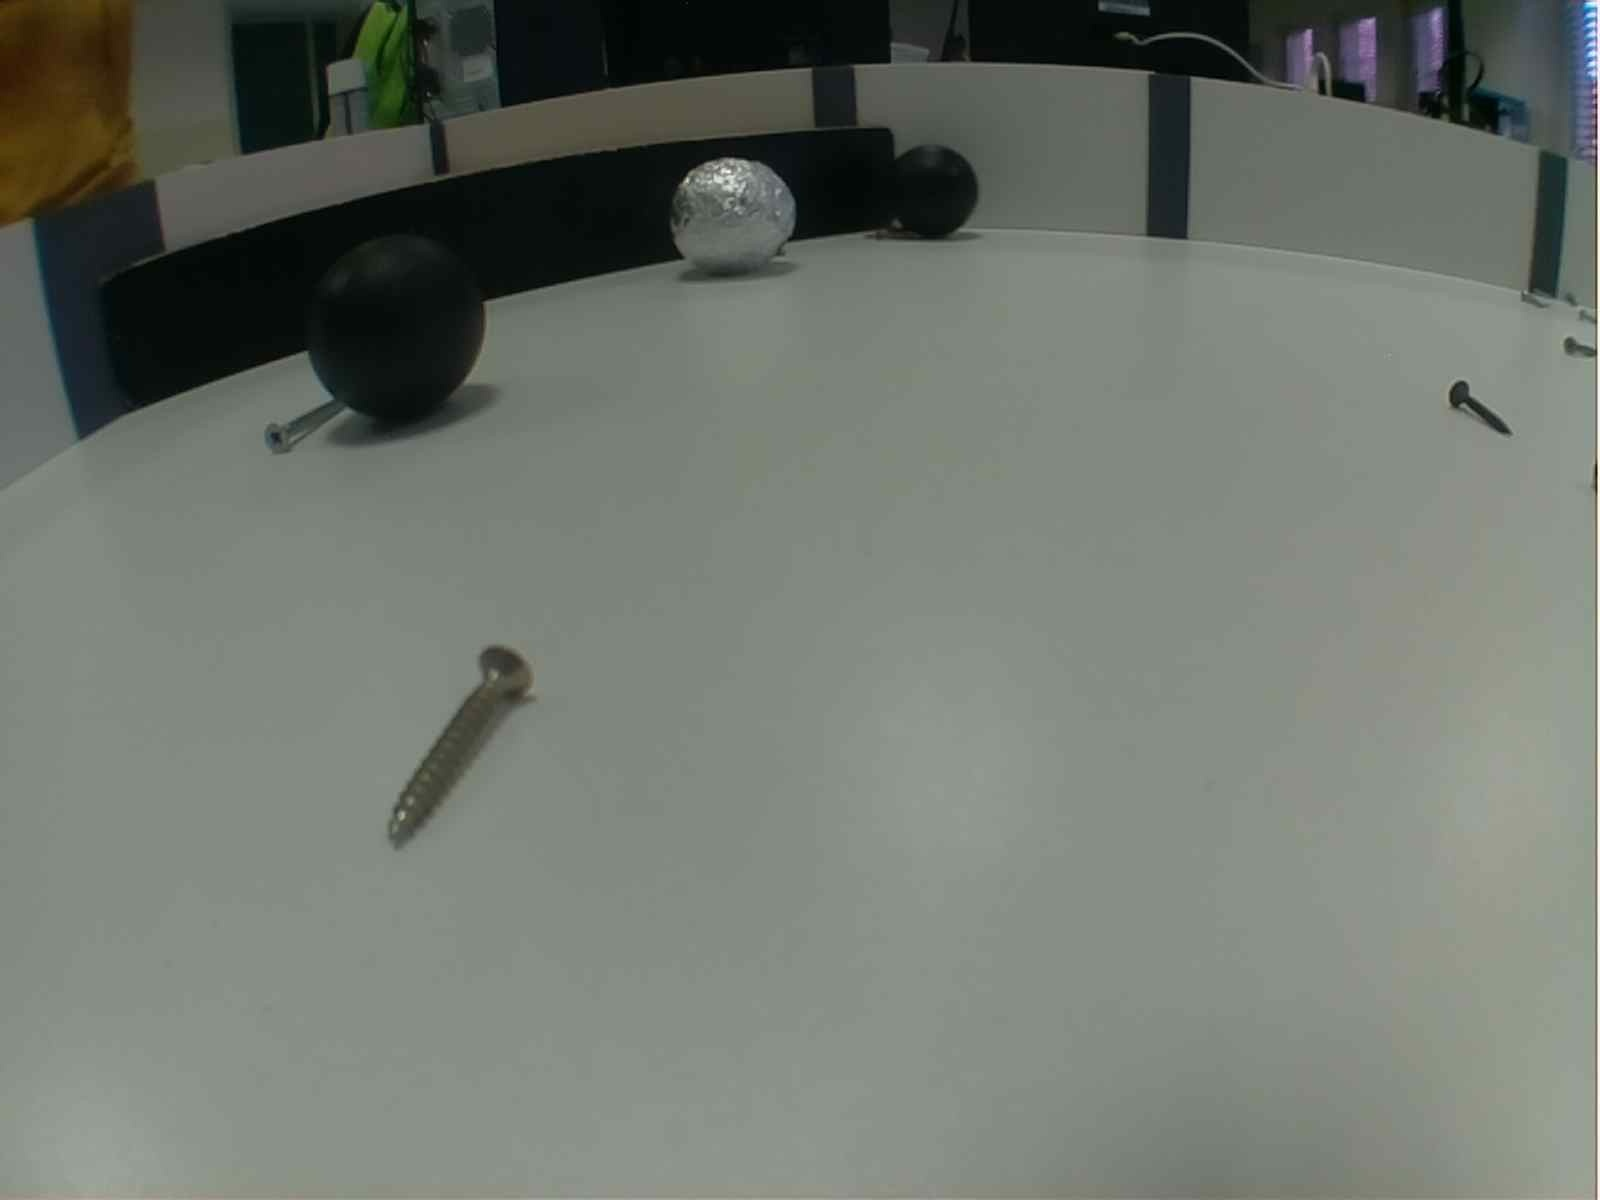bianca: (664, 153, 803, 285)
nera: (307, 222, 493, 436), (881, 144, 988, 239)
